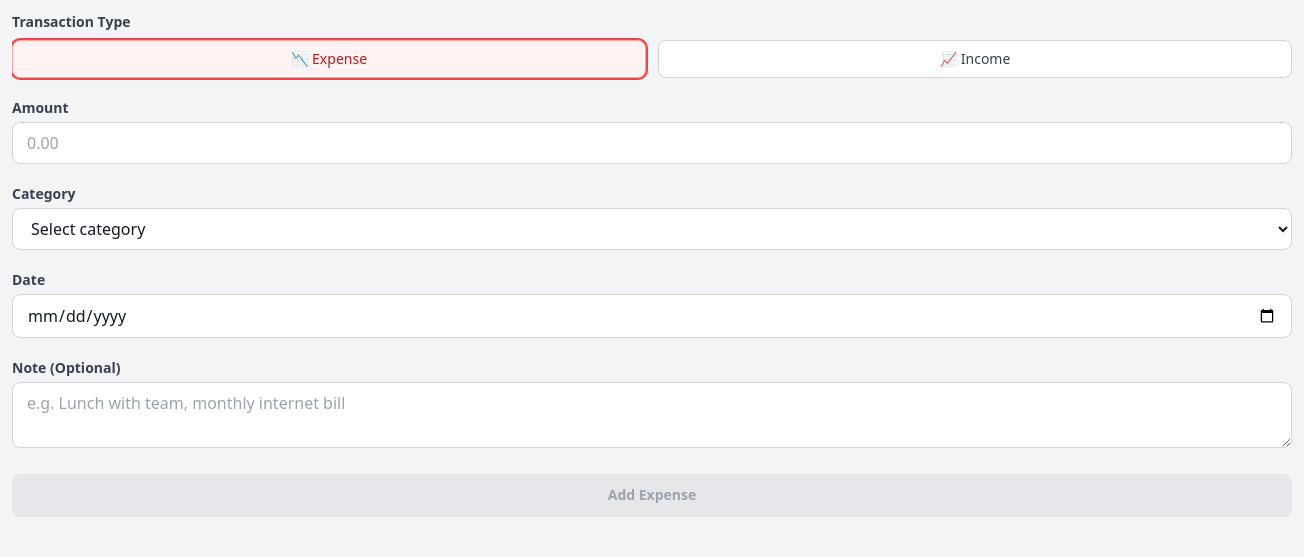
Test case: TransactionForm › shows error and disables button for negative amount
Type "-50" into the number field labelled "Amount" at (652, 143), box 12,122 -> 1292,164
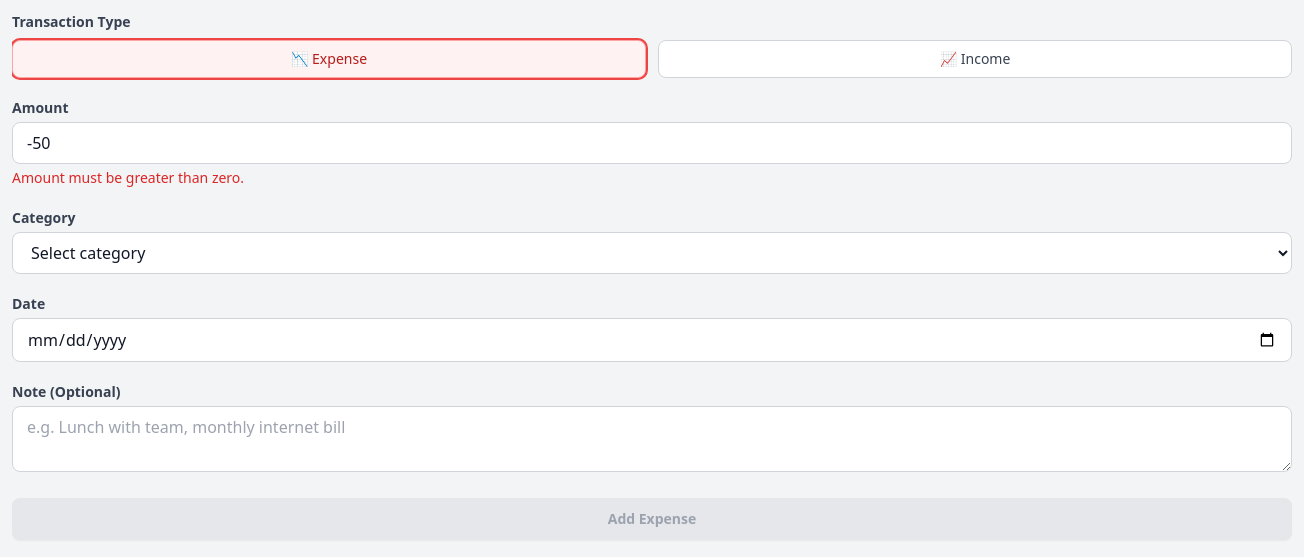
Expected: the button with aria-label "submit transaction" is disabled, 12,498 -> 1292,540
Result: the text "Amount must be greater than zero." is shown at 12,168 -> 244,187
